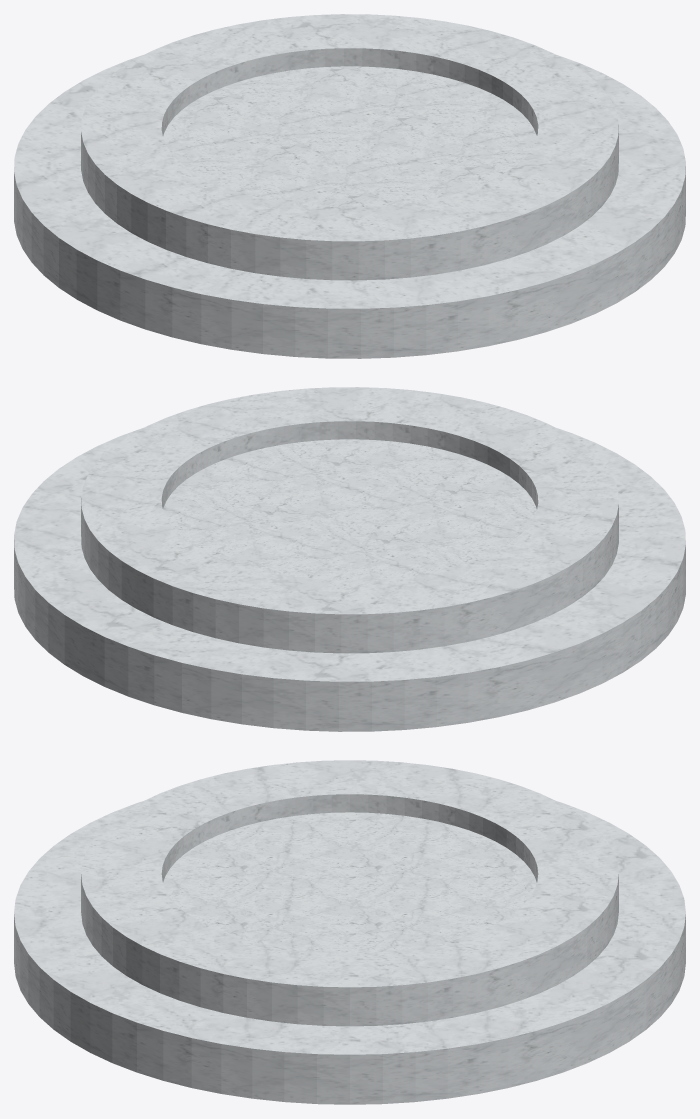
File: piedestal.glb
The picture shows the model from 3 angles, top to bottom: view 1: azimuth 30°, elevation 25°; view 2: azimuth 150°, elevation 25°; view 3: azimuth 270°, elevation 25°; orthographic projection.
Visible parts, largest first — view 1: Cylinder; view 2: Cylinder; view 3: Cylinder.
Part boxes in pixels (x1,y1,x2,y2): Cylinder: (14, 14, 685, 358); Cylinder: (14, 387, 685, 731); Cylinder: (14, 760, 685, 1104).
Size of the model in its own units: 35.25 by 5.15 by 35.25.
1 material, 1 textured.
